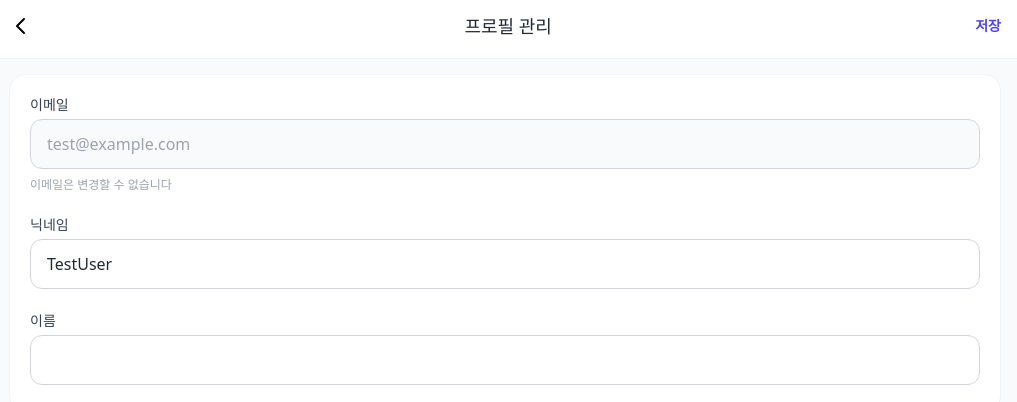
it: Settings Profile Flow - Integration Test › Saving State › should disable save button while saving
Replace the text in the field with test id "profile-nickname" with "UpdatedNick" at (505, 264), box [30,239,980,289]
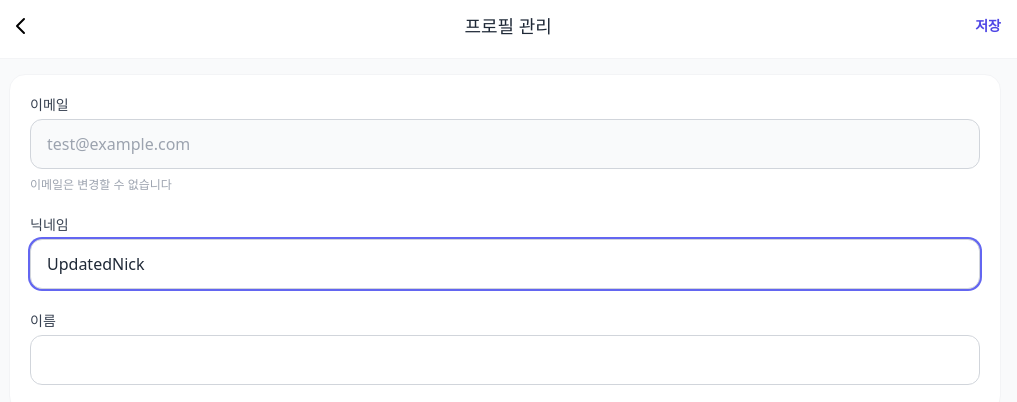
Click the button "저장" at (988, 26), box [975,16,1001,36]
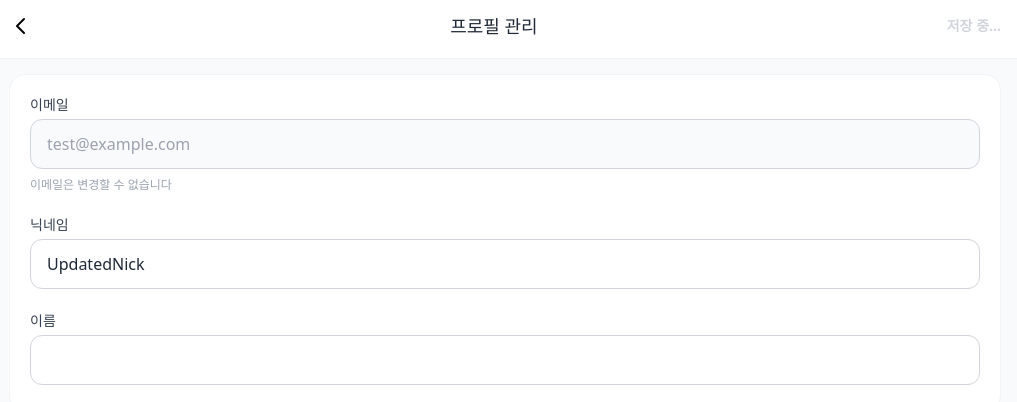
Expected: the button "저장 중..." is disabled, [947,16,1001,36]
